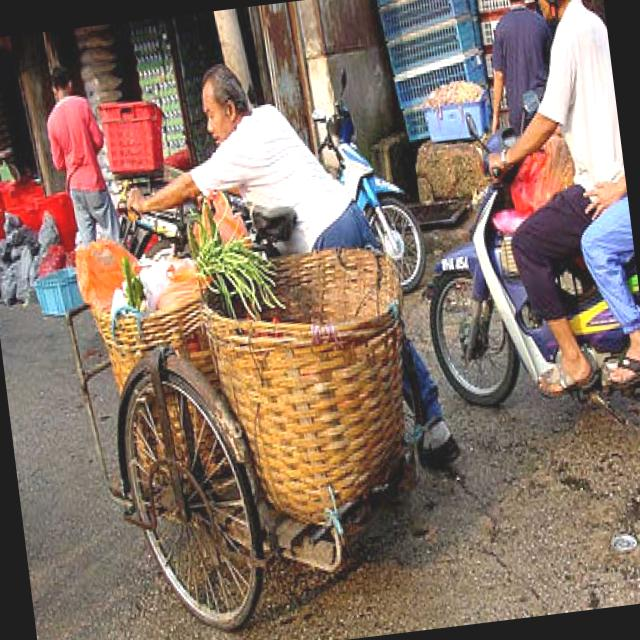Vehicle: (399, 79, 640, 482), (307, 61, 429, 300)
